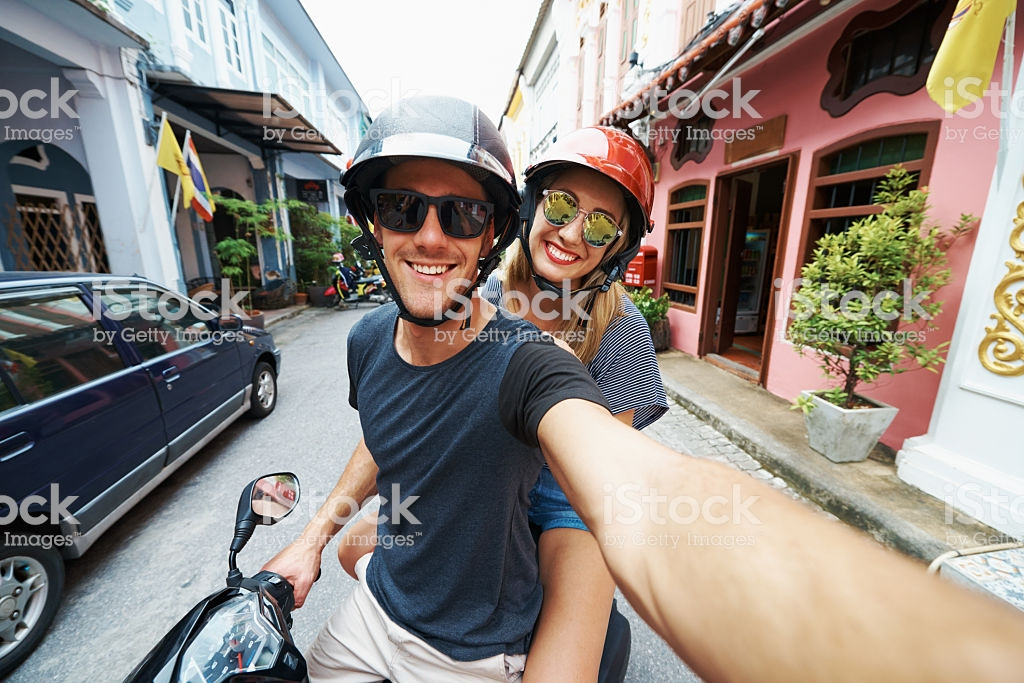helmet: (351, 94, 515, 202), (527, 110, 653, 221)
